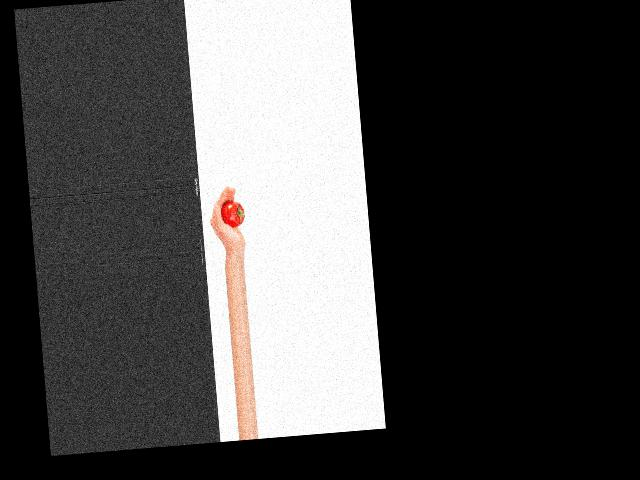tomato: (220, 201, 245, 229)
